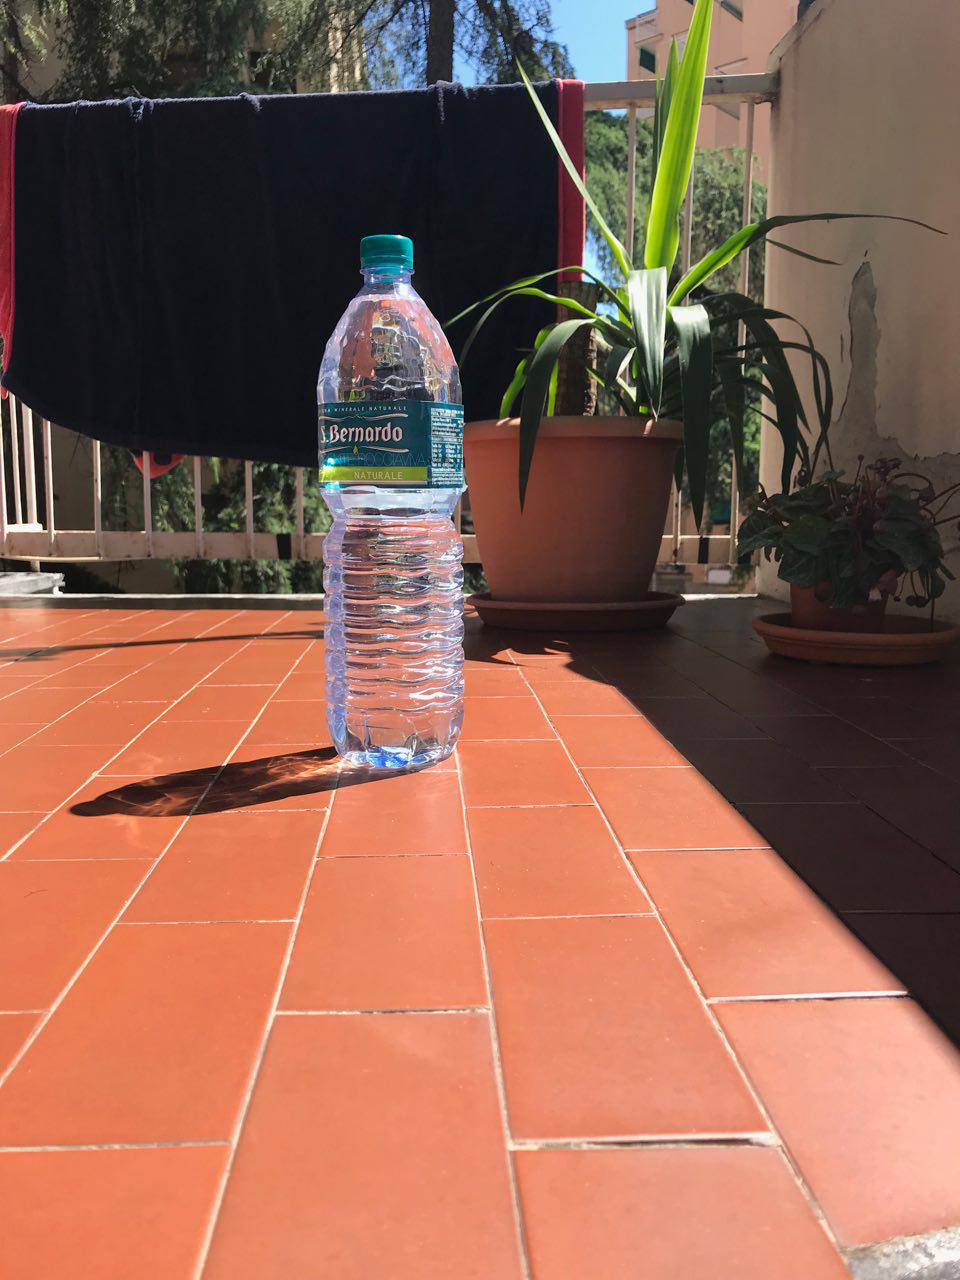san_bernardo: (316, 232, 465, 770)
